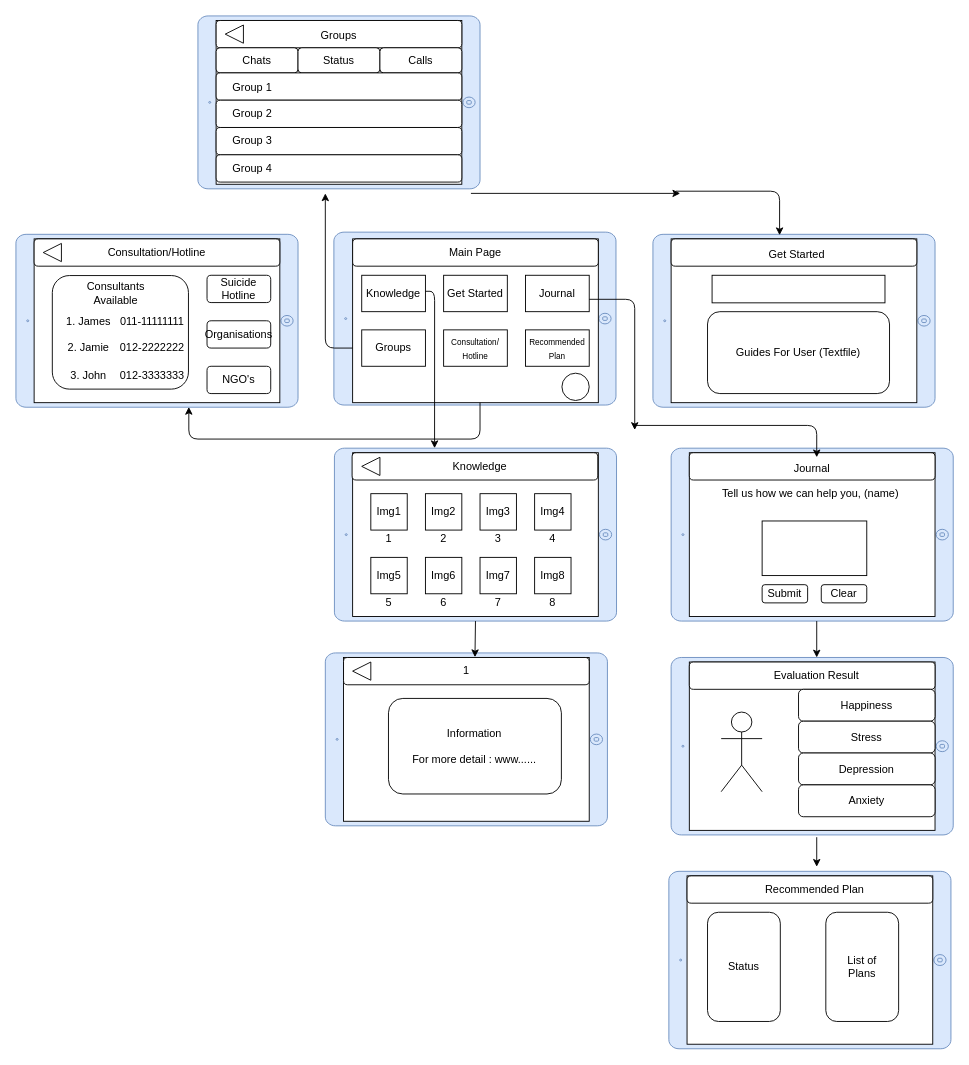
Image size: 969x1065. Some labels were removed from this diagram. Here are the shapes that lost their labels. From the top down, the centre of each, then its label:
the point at 798,288: How to use the application
the point at 575,386: Bot
the point at 741,751: Actor
